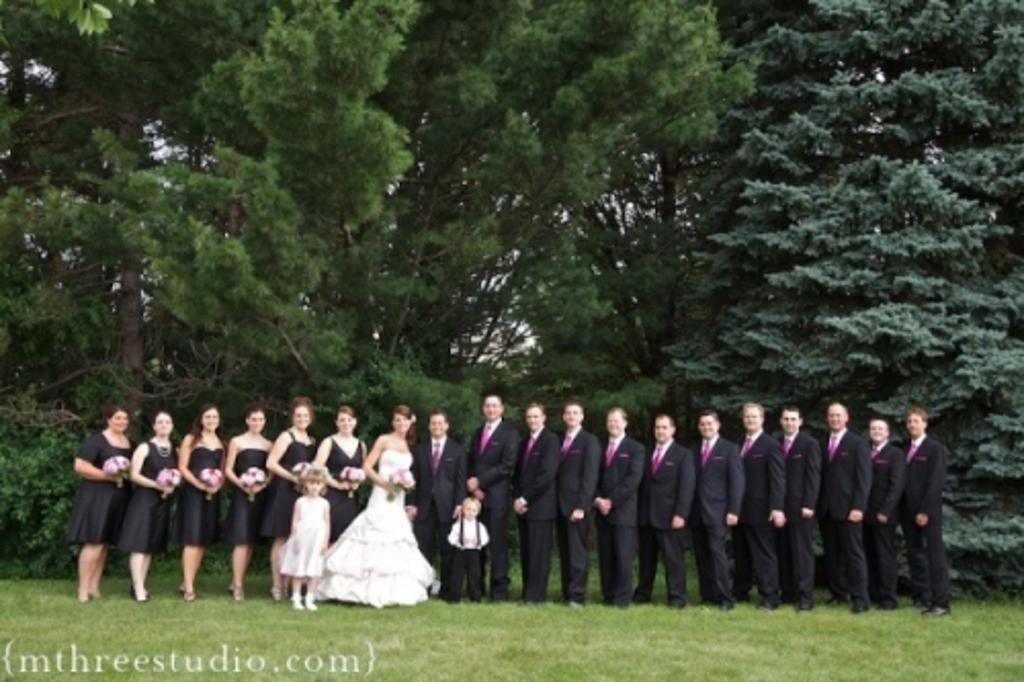face: (484, 397, 501, 419), (745, 408, 761, 431), (829, 409, 846, 430), (527, 408, 543, 430), (656, 419, 672, 441), (783, 411, 799, 433), (295, 406, 310, 429), (609, 412, 624, 435), (203, 410, 219, 431), (249, 412, 265, 433), (701, 417, 717, 438), (908, 415, 924, 436), (156, 415, 172, 435), (339, 413, 355, 433), (431, 416, 446, 437), (395, 413, 410, 433), (112, 412, 127, 431), (566, 407, 581, 426), (871, 424, 886, 441), (309, 479, 323, 495), (465, 504, 478, 519)
